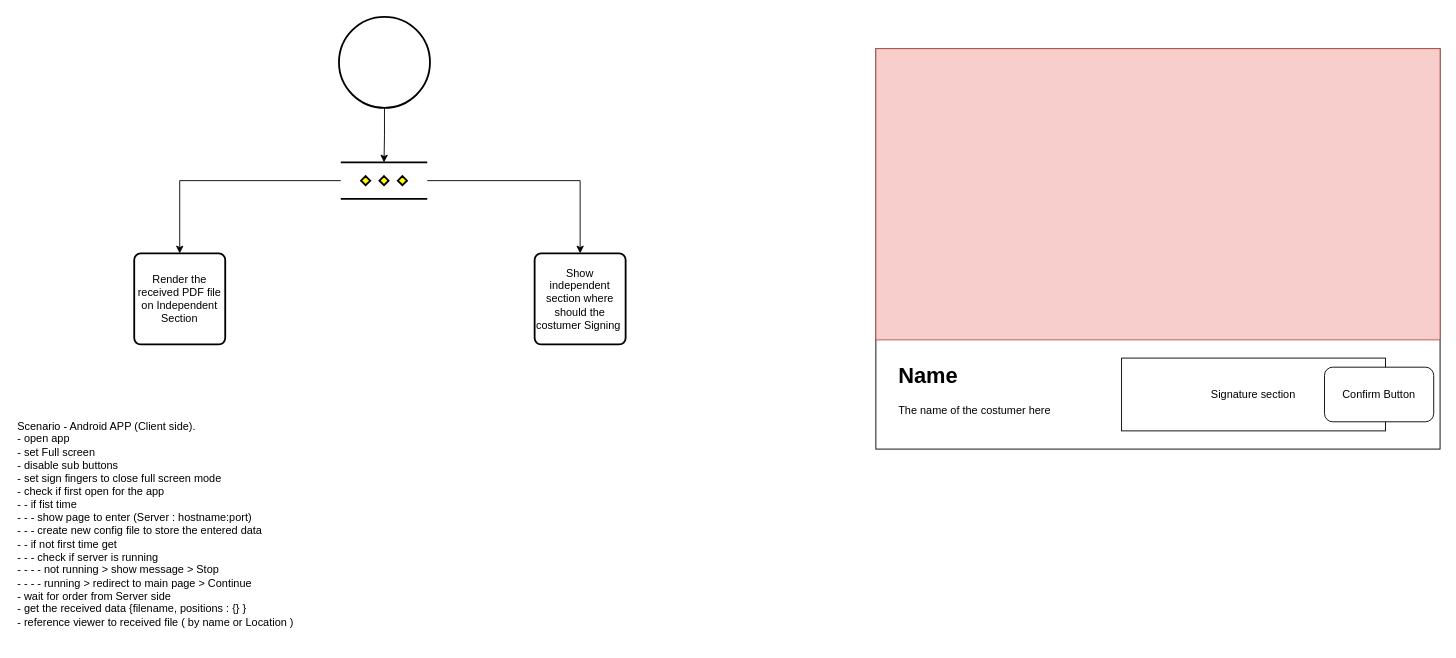
Image size: 1456x658. Some labels were removed from this diagram. The box of each missing label's shape, as (x1, y1, x2, y2) in pixels:
Order received: (338, 15, 430, 108)
PDF render: (875, 48, 1440, 340)
